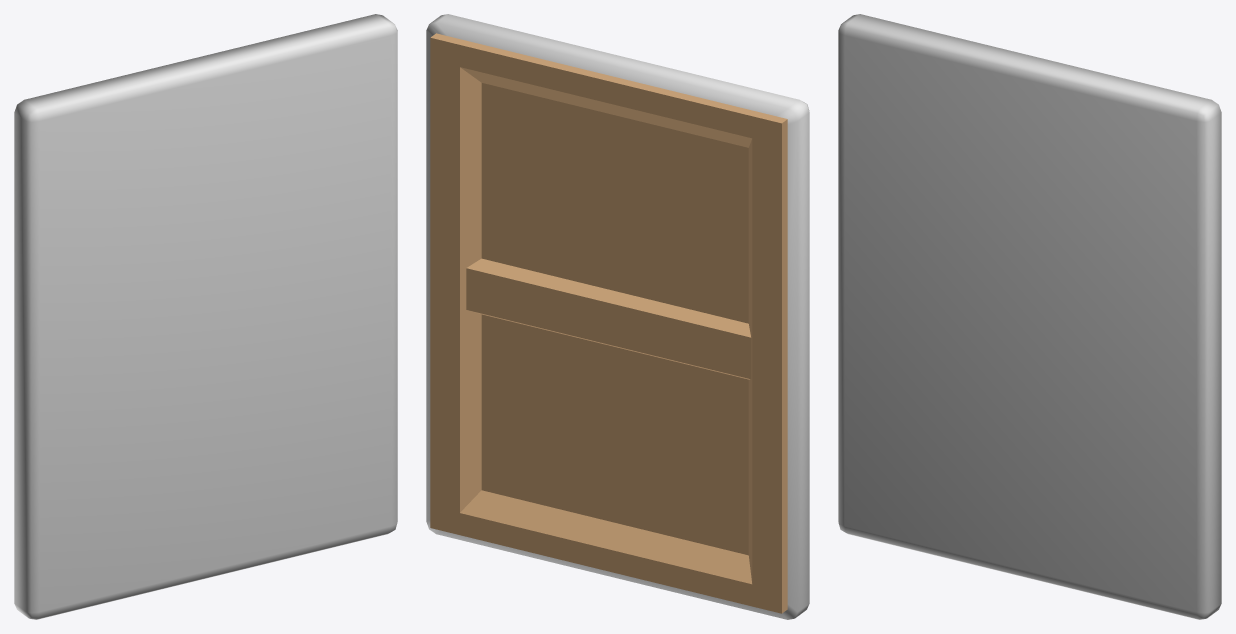
The model's file is painting.gltf.glb.
The picture shows the model from 3 angles, left to right: view 1: azimuth 30°, elevation 25°; view 2: azimuth 150°, elevation 25°; view 3: azimuth 330°, elevation 25°; orthographic projection.
Parts seen in each view (by area): view 1: painting; view 2: painting; view 3: painting.
Boxes of the visible parts, bbox=[...] form: painting: bbox=[14, 14, 397, 619]; painting: bbox=[426, 14, 809, 619]; painting: bbox=[838, 14, 1221, 619].
Size of the model in its own units: 1.19 by 1.57 by 0.1178.
